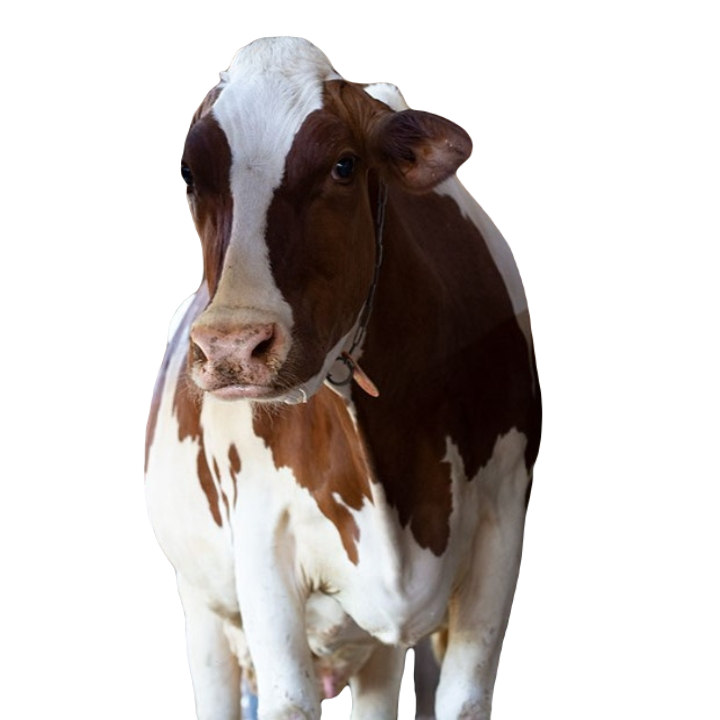Cow: (134, 33, 543, 719)
